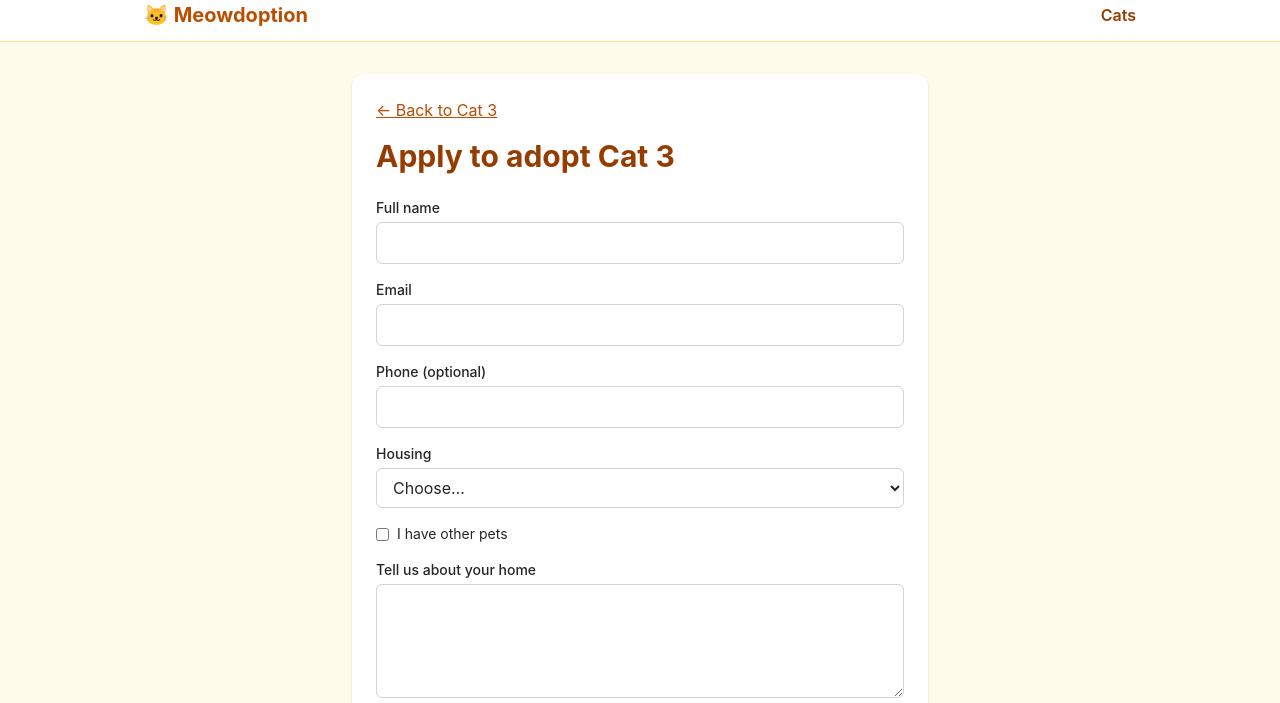
Test: ApplyPage › shows the server's message on a conflict
Type "Jana Nováková" into the field labelled "Full name". click: [640, 243]
box: [376,222,904,264]
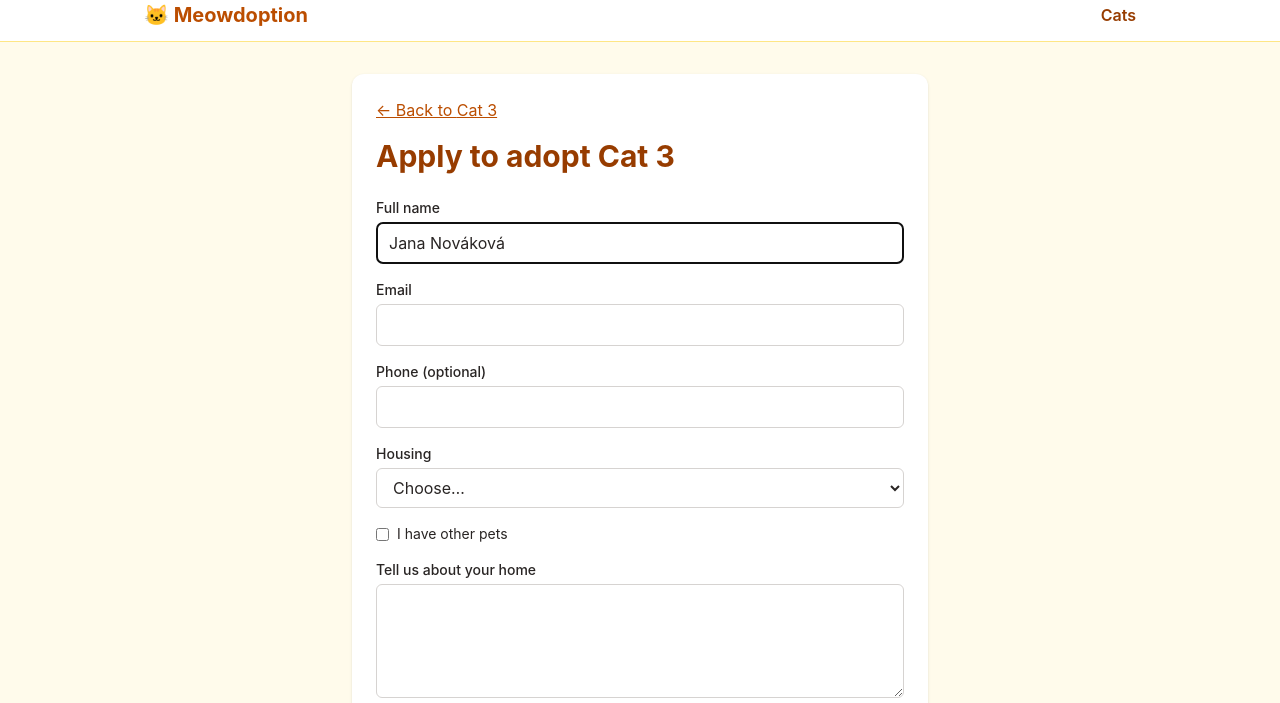
Type "jana@example.com" into the field labelled "Email". click: [640, 325]
box: [376,304,904,346]
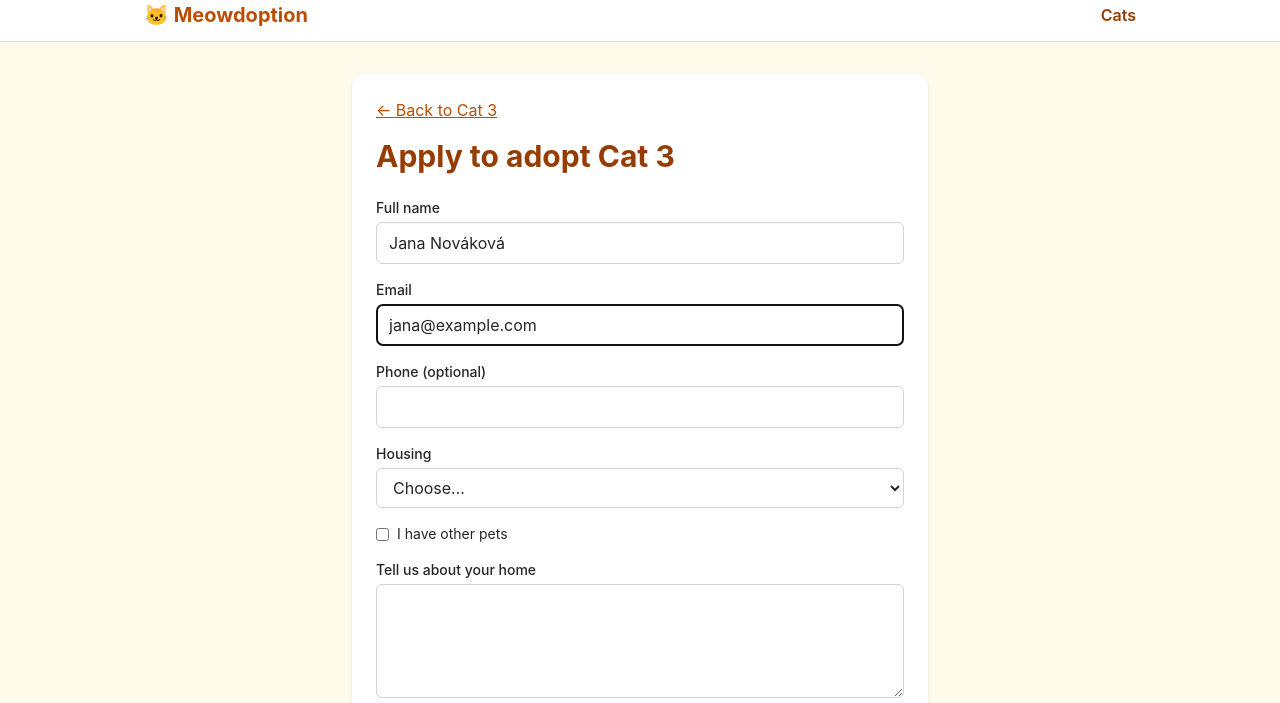
Select "Apartment" in the dropdown labelled "Housing". click: [640, 488]
box: [376,468,904,508]
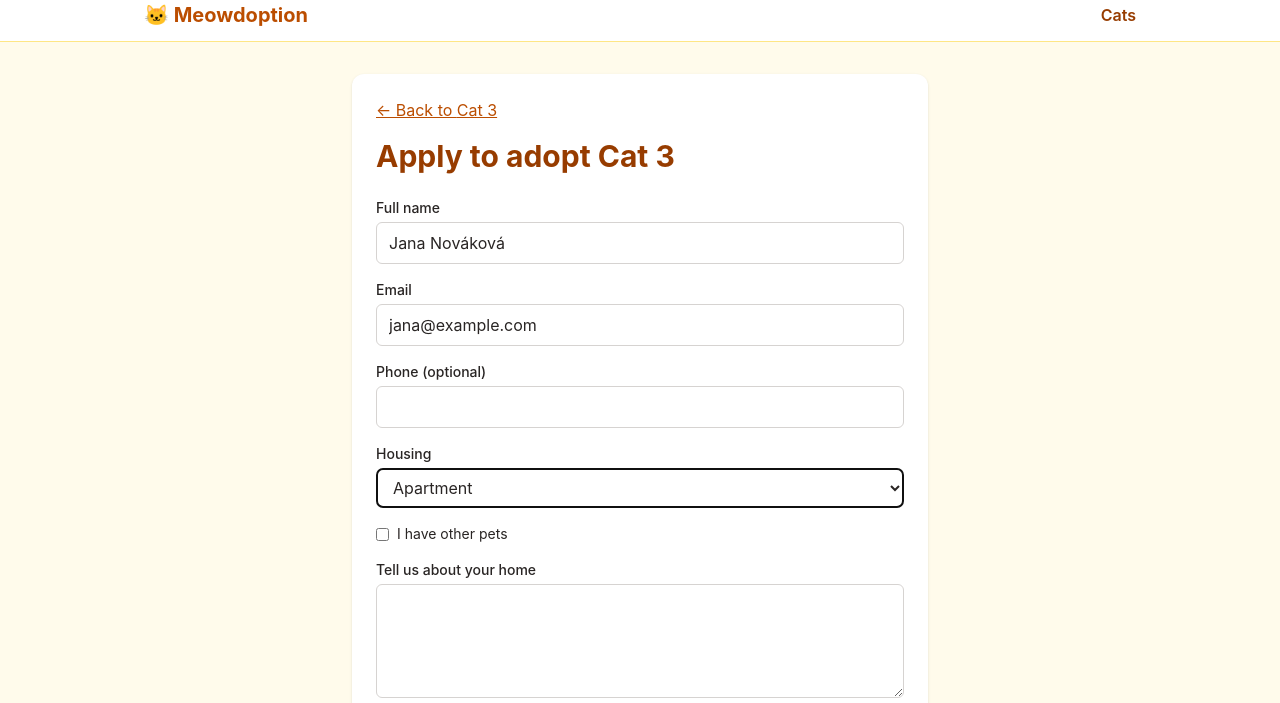
Click the checkbox labelled "I have other pets". click: [382, 534]
box: [376,528,389,540]
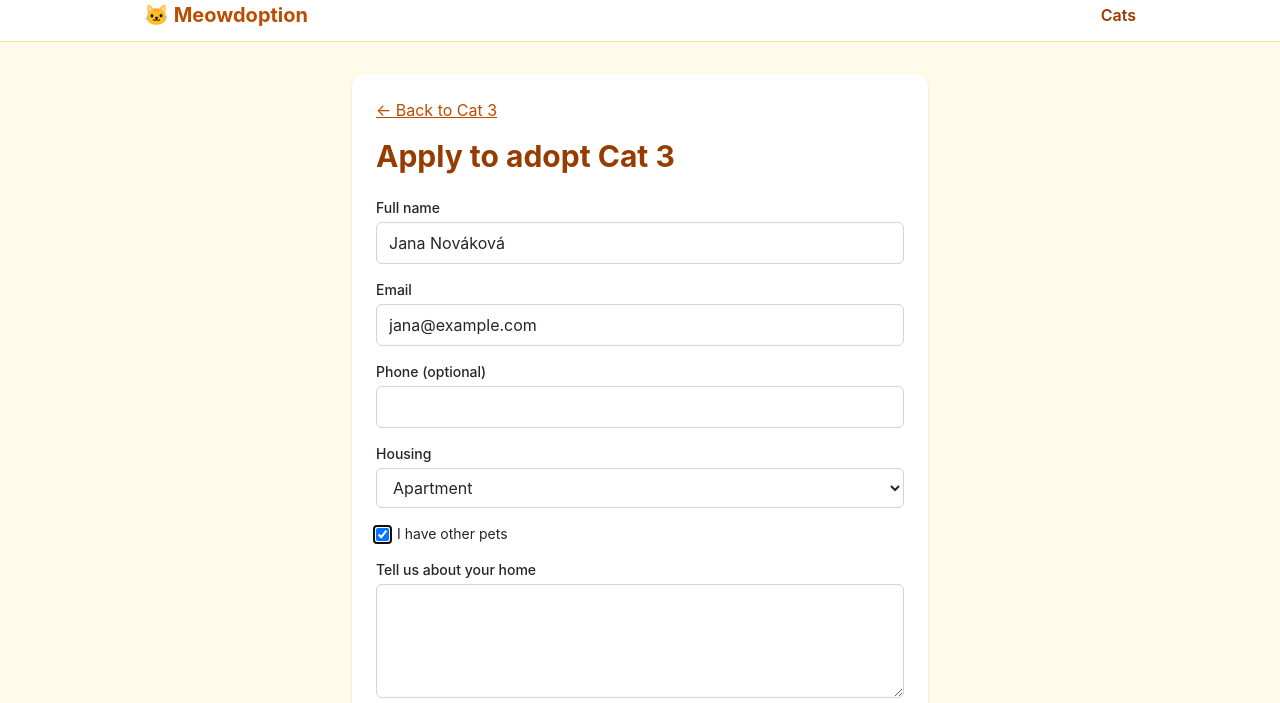
Type "Quiet flat." into the text box labelled "Tell us about your home". click: [640, 641]
box: [376,584,904,698]
(page scrolled)
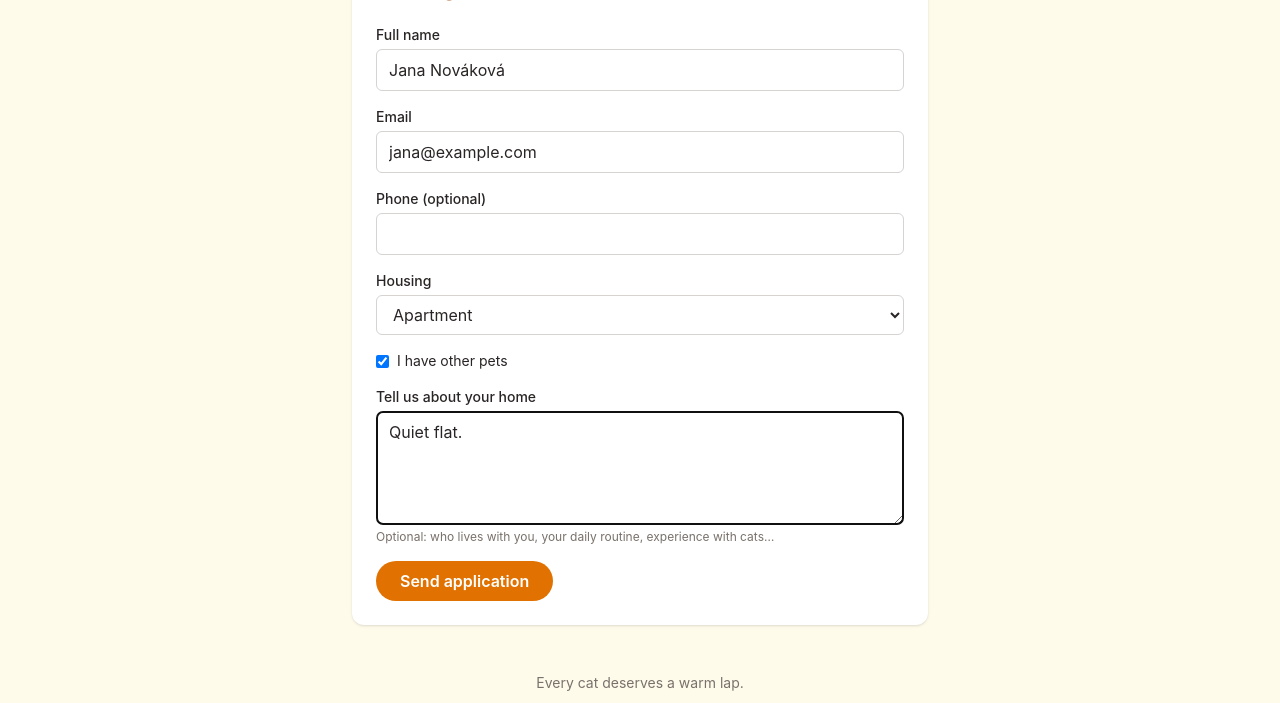
Click the button "Send application". click: [465, 581]
box: [376,561,553,601]
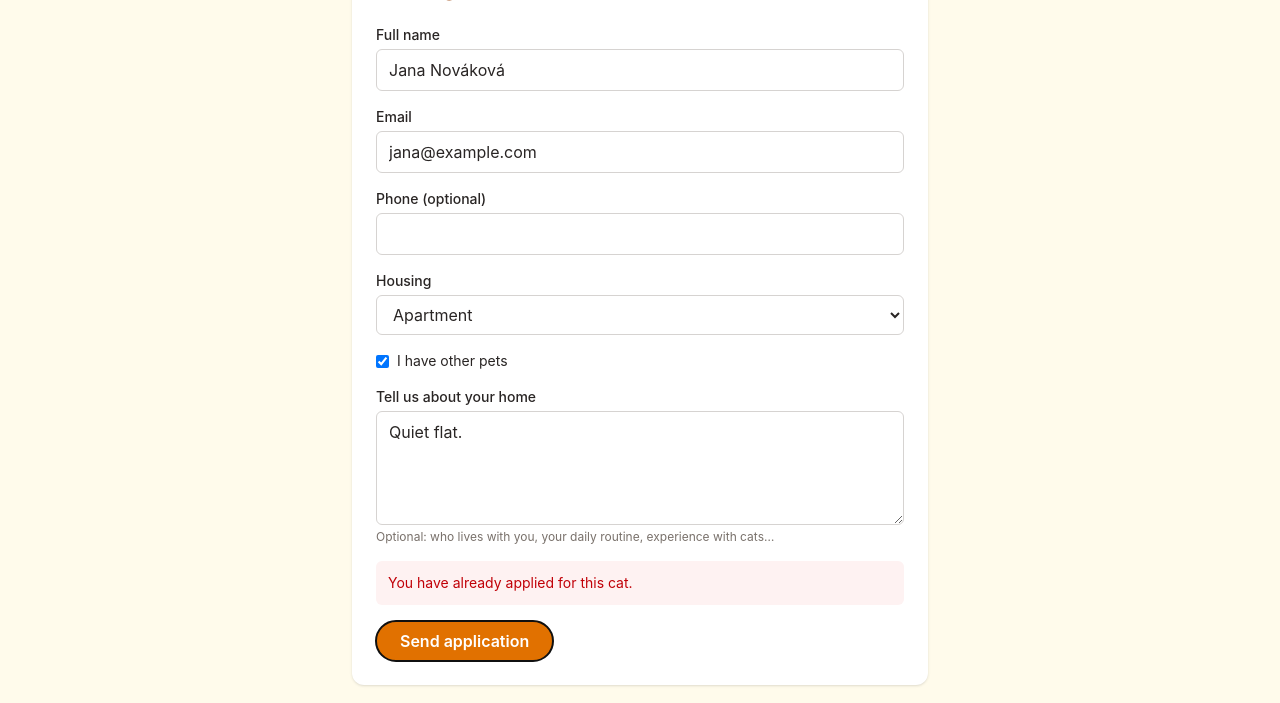
Result: the message reads "You have already applied for this cat." at [388,574,633,591]
